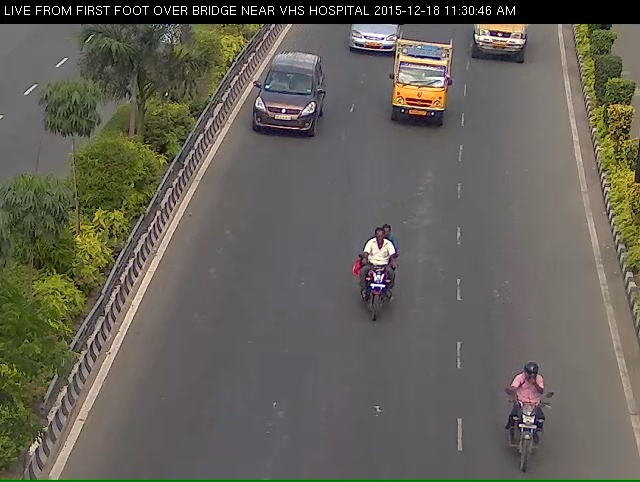Auto: (387, 47, 455, 139)
Car: (244, 56, 330, 152)
Person: (355, 241, 404, 345), (507, 389, 562, 479)
